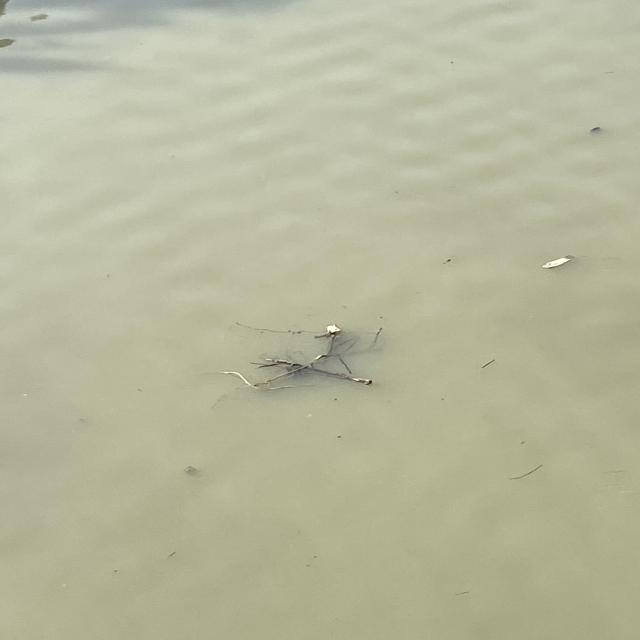Foamed Plastic: (322, 322, 345, 340)
Organic Debris: (204, 306, 408, 404), (499, 457, 552, 484), (476, 359, 500, 370), (586, 124, 607, 136)
Plastic: (535, 249, 577, 272), (179, 466, 208, 481)
